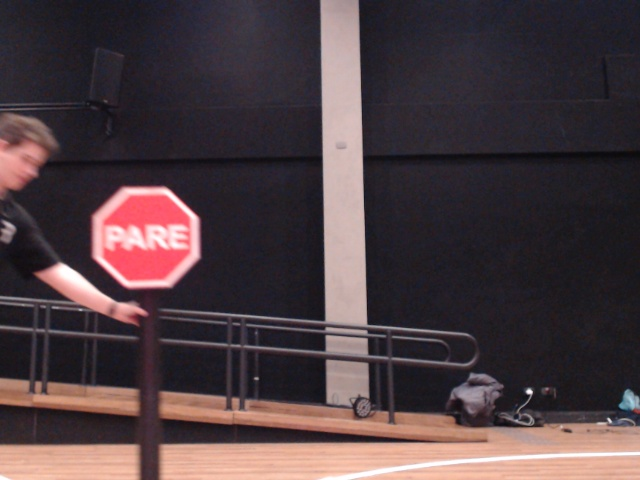SEMAFORO: (76, 171, 235, 317)
